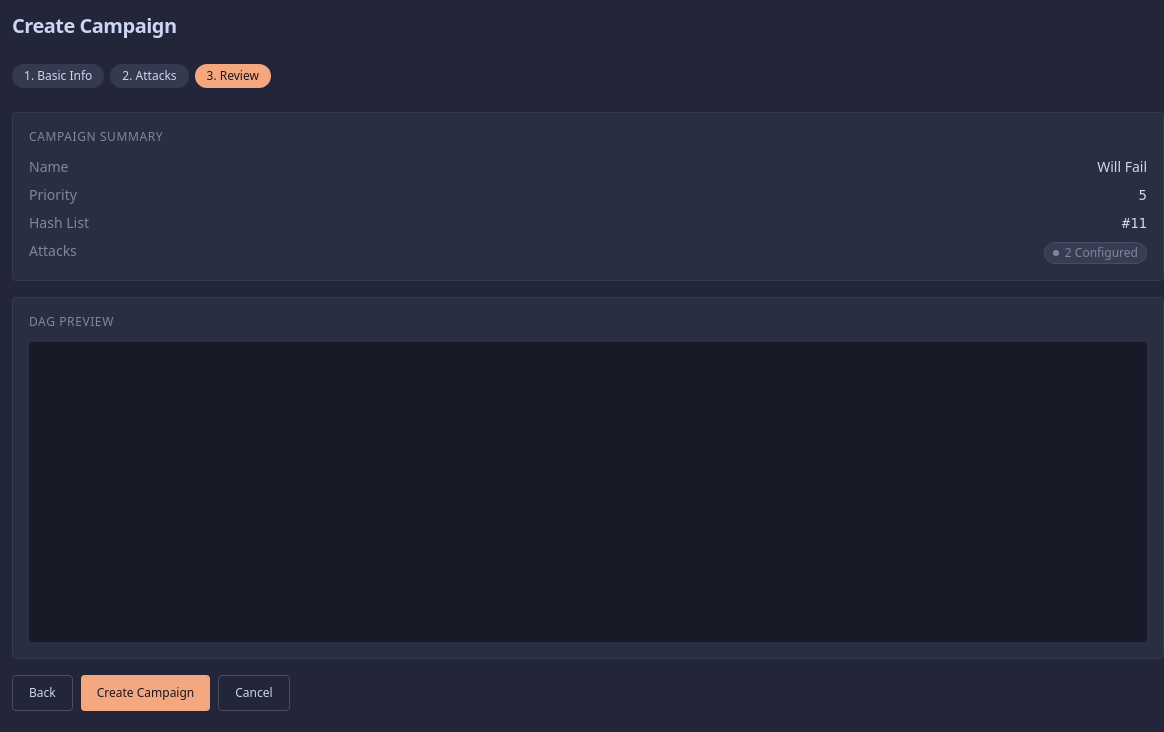
Scenario: CampaignCreatePage partial-failure rollback › issues a compensating DELETE when an attack POST fails mid-loop
This screenshot has width=1164, height=732.
Click the button "Create Campaign". click: click(146, 693)
box: left=81, top=675, right=210, bottom=711
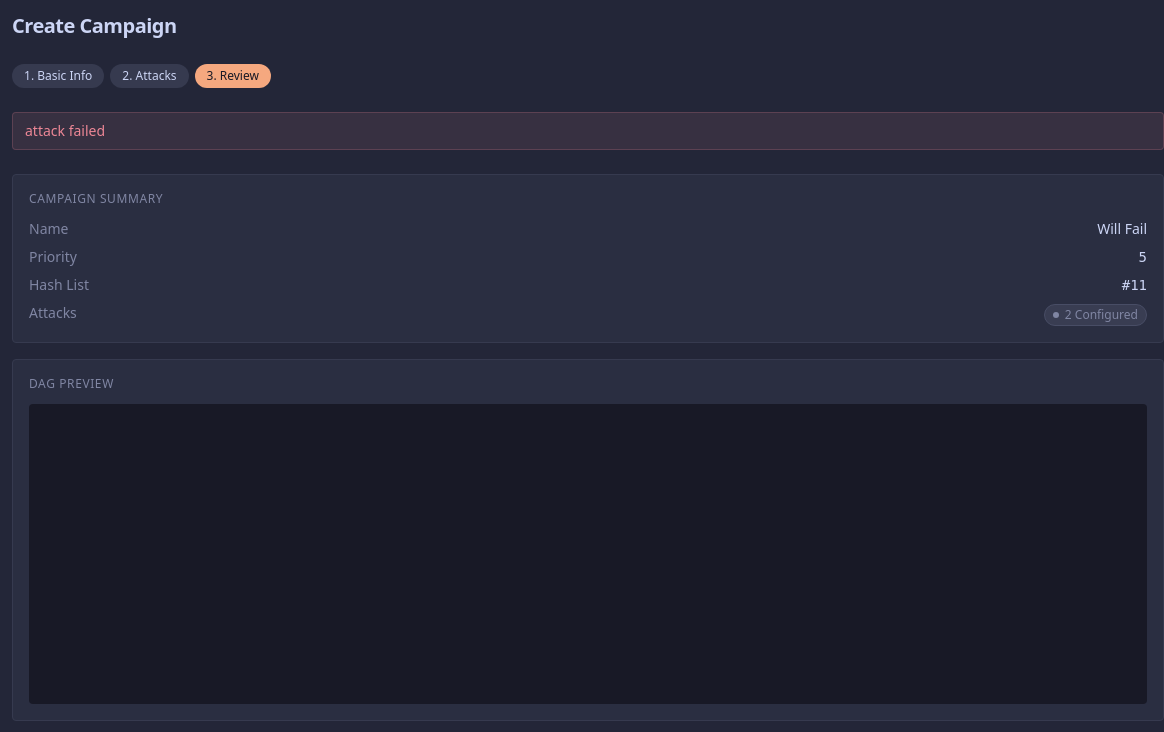
expect the text "attack failed" is shown: met, box left=12, top=112, right=1163, bottom=150
